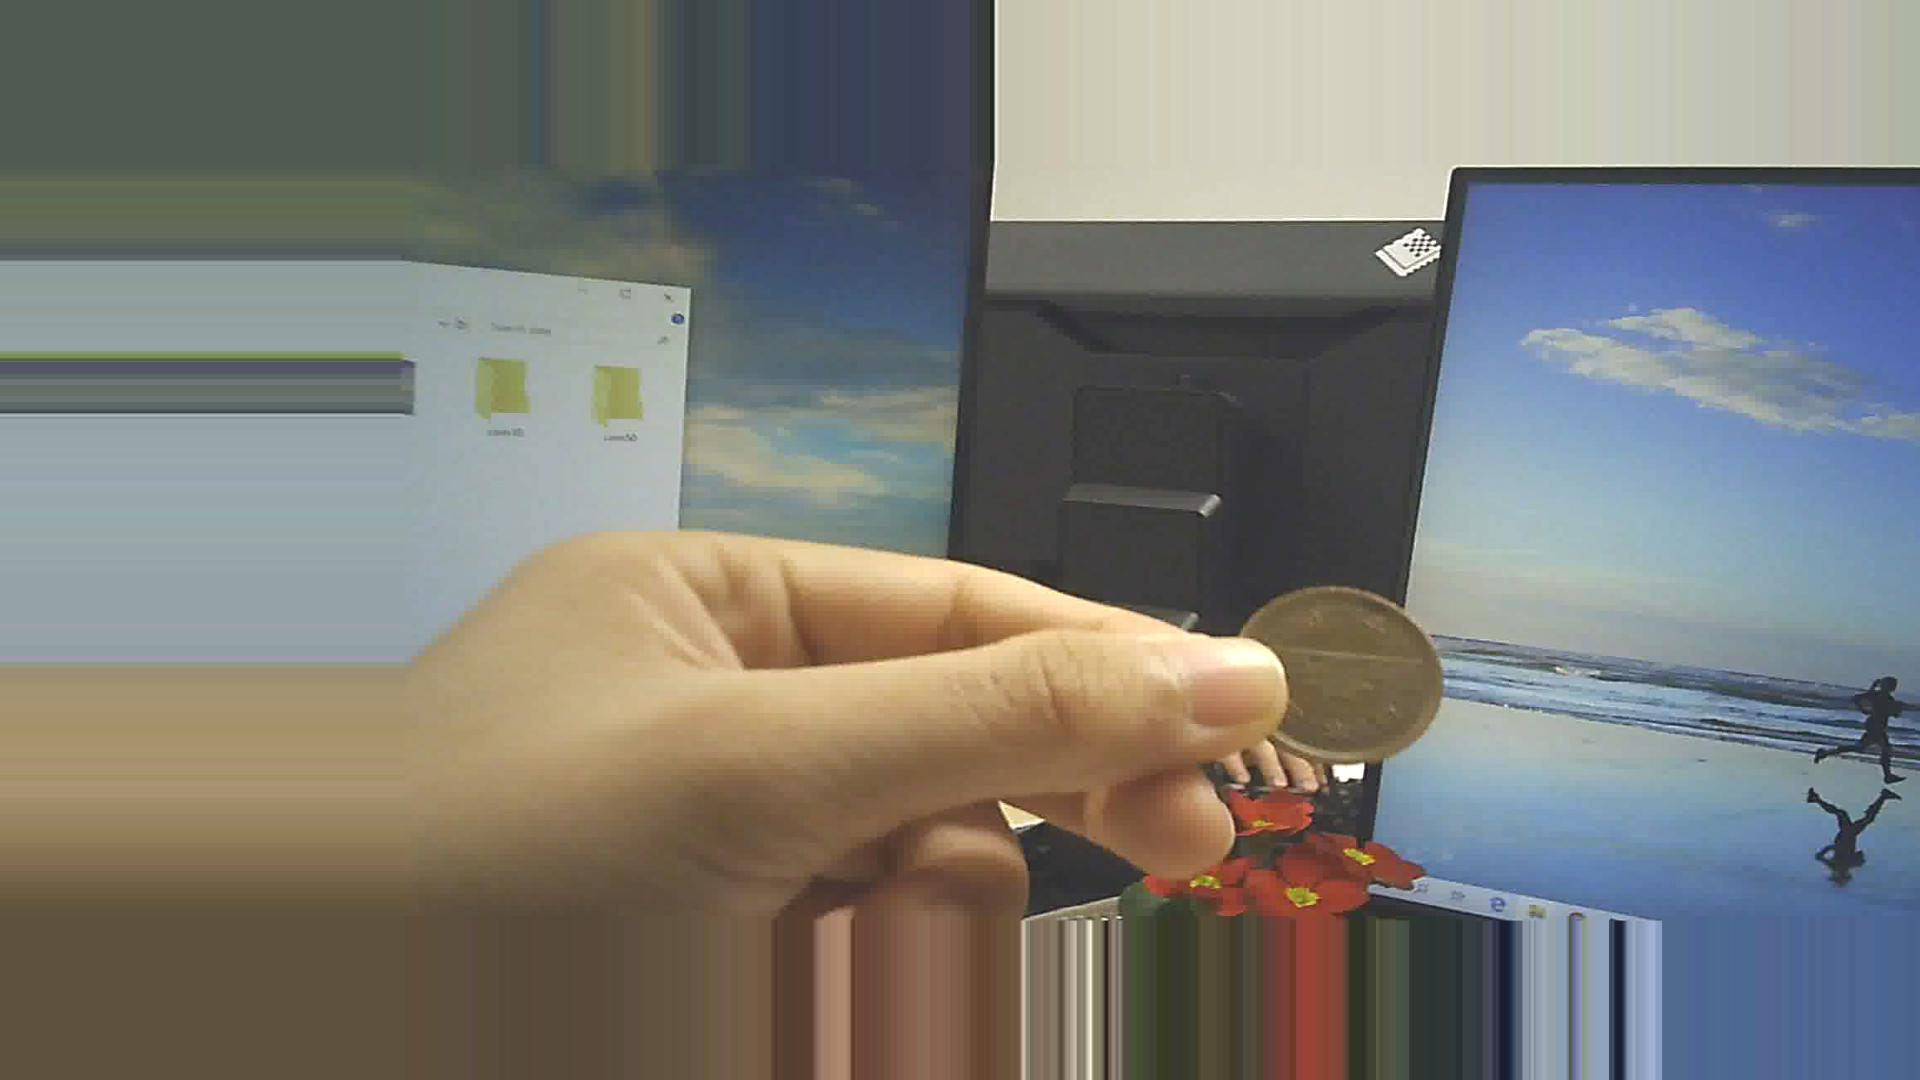10 Yen: (1218, 578, 1451, 758)
